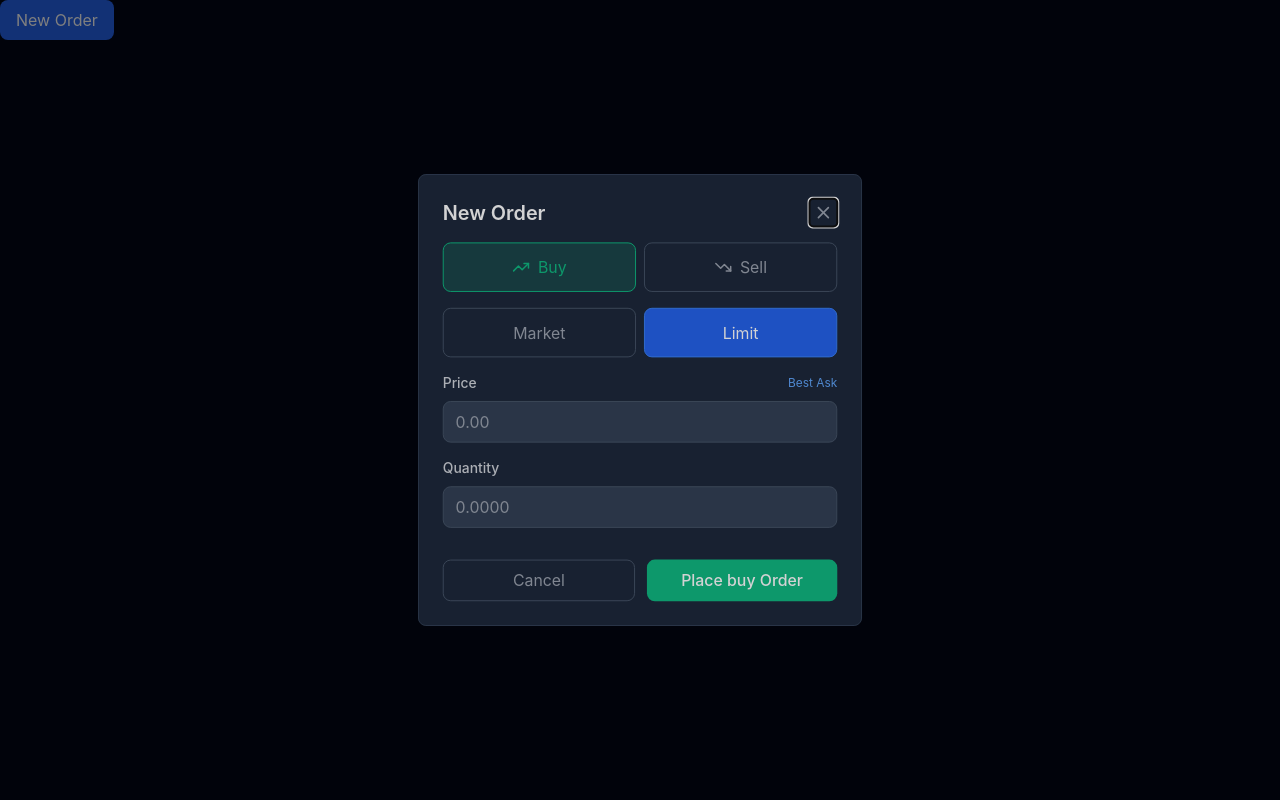
Test: OrderEntryForm Integration › should validate required fields
Click the button "Place buy Order" at (742, 580), box x1=647 y1=560 x2=837 y2=601
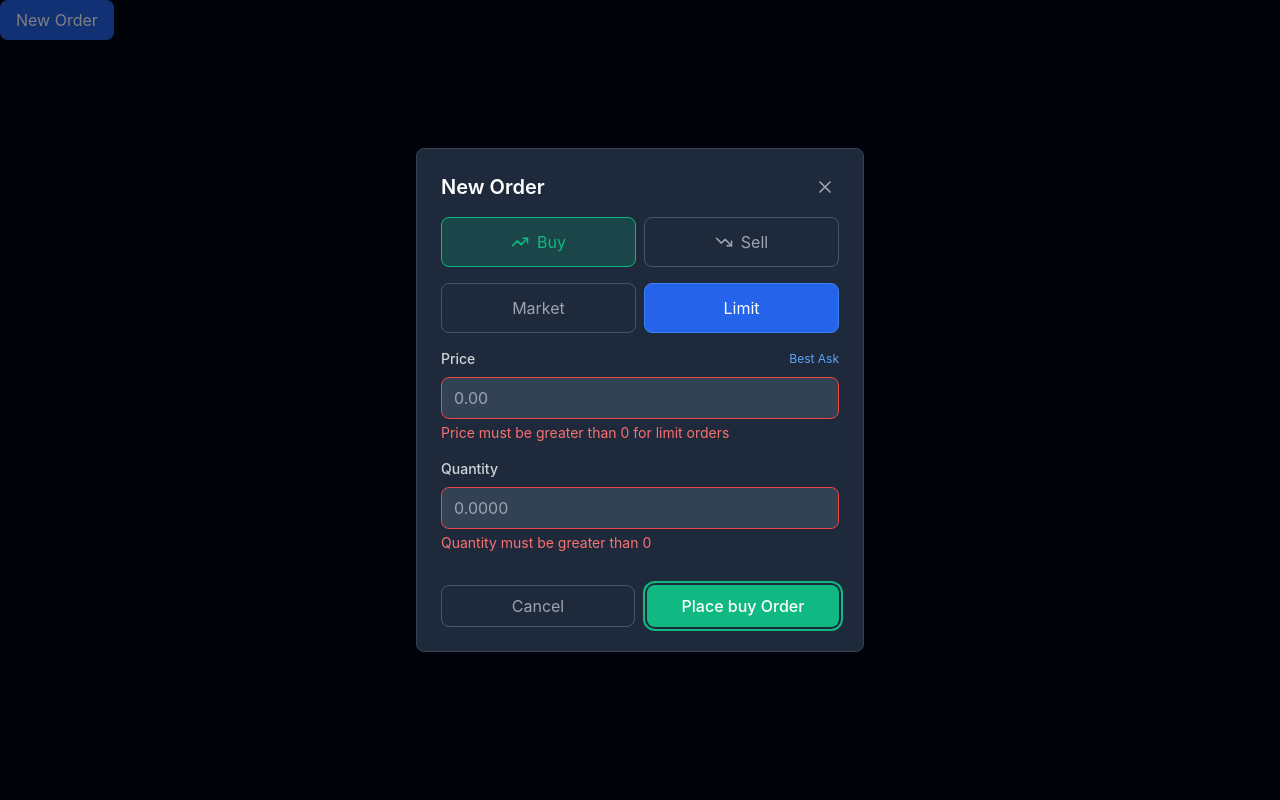
Now the text "Quantity must be greater than 0" is shown, box x1=441 y1=534 x2=651 y2=551
Now the text "Price must be greater than 0 for limit orders" is shown, box x1=441 y1=424 x2=729 y2=441
